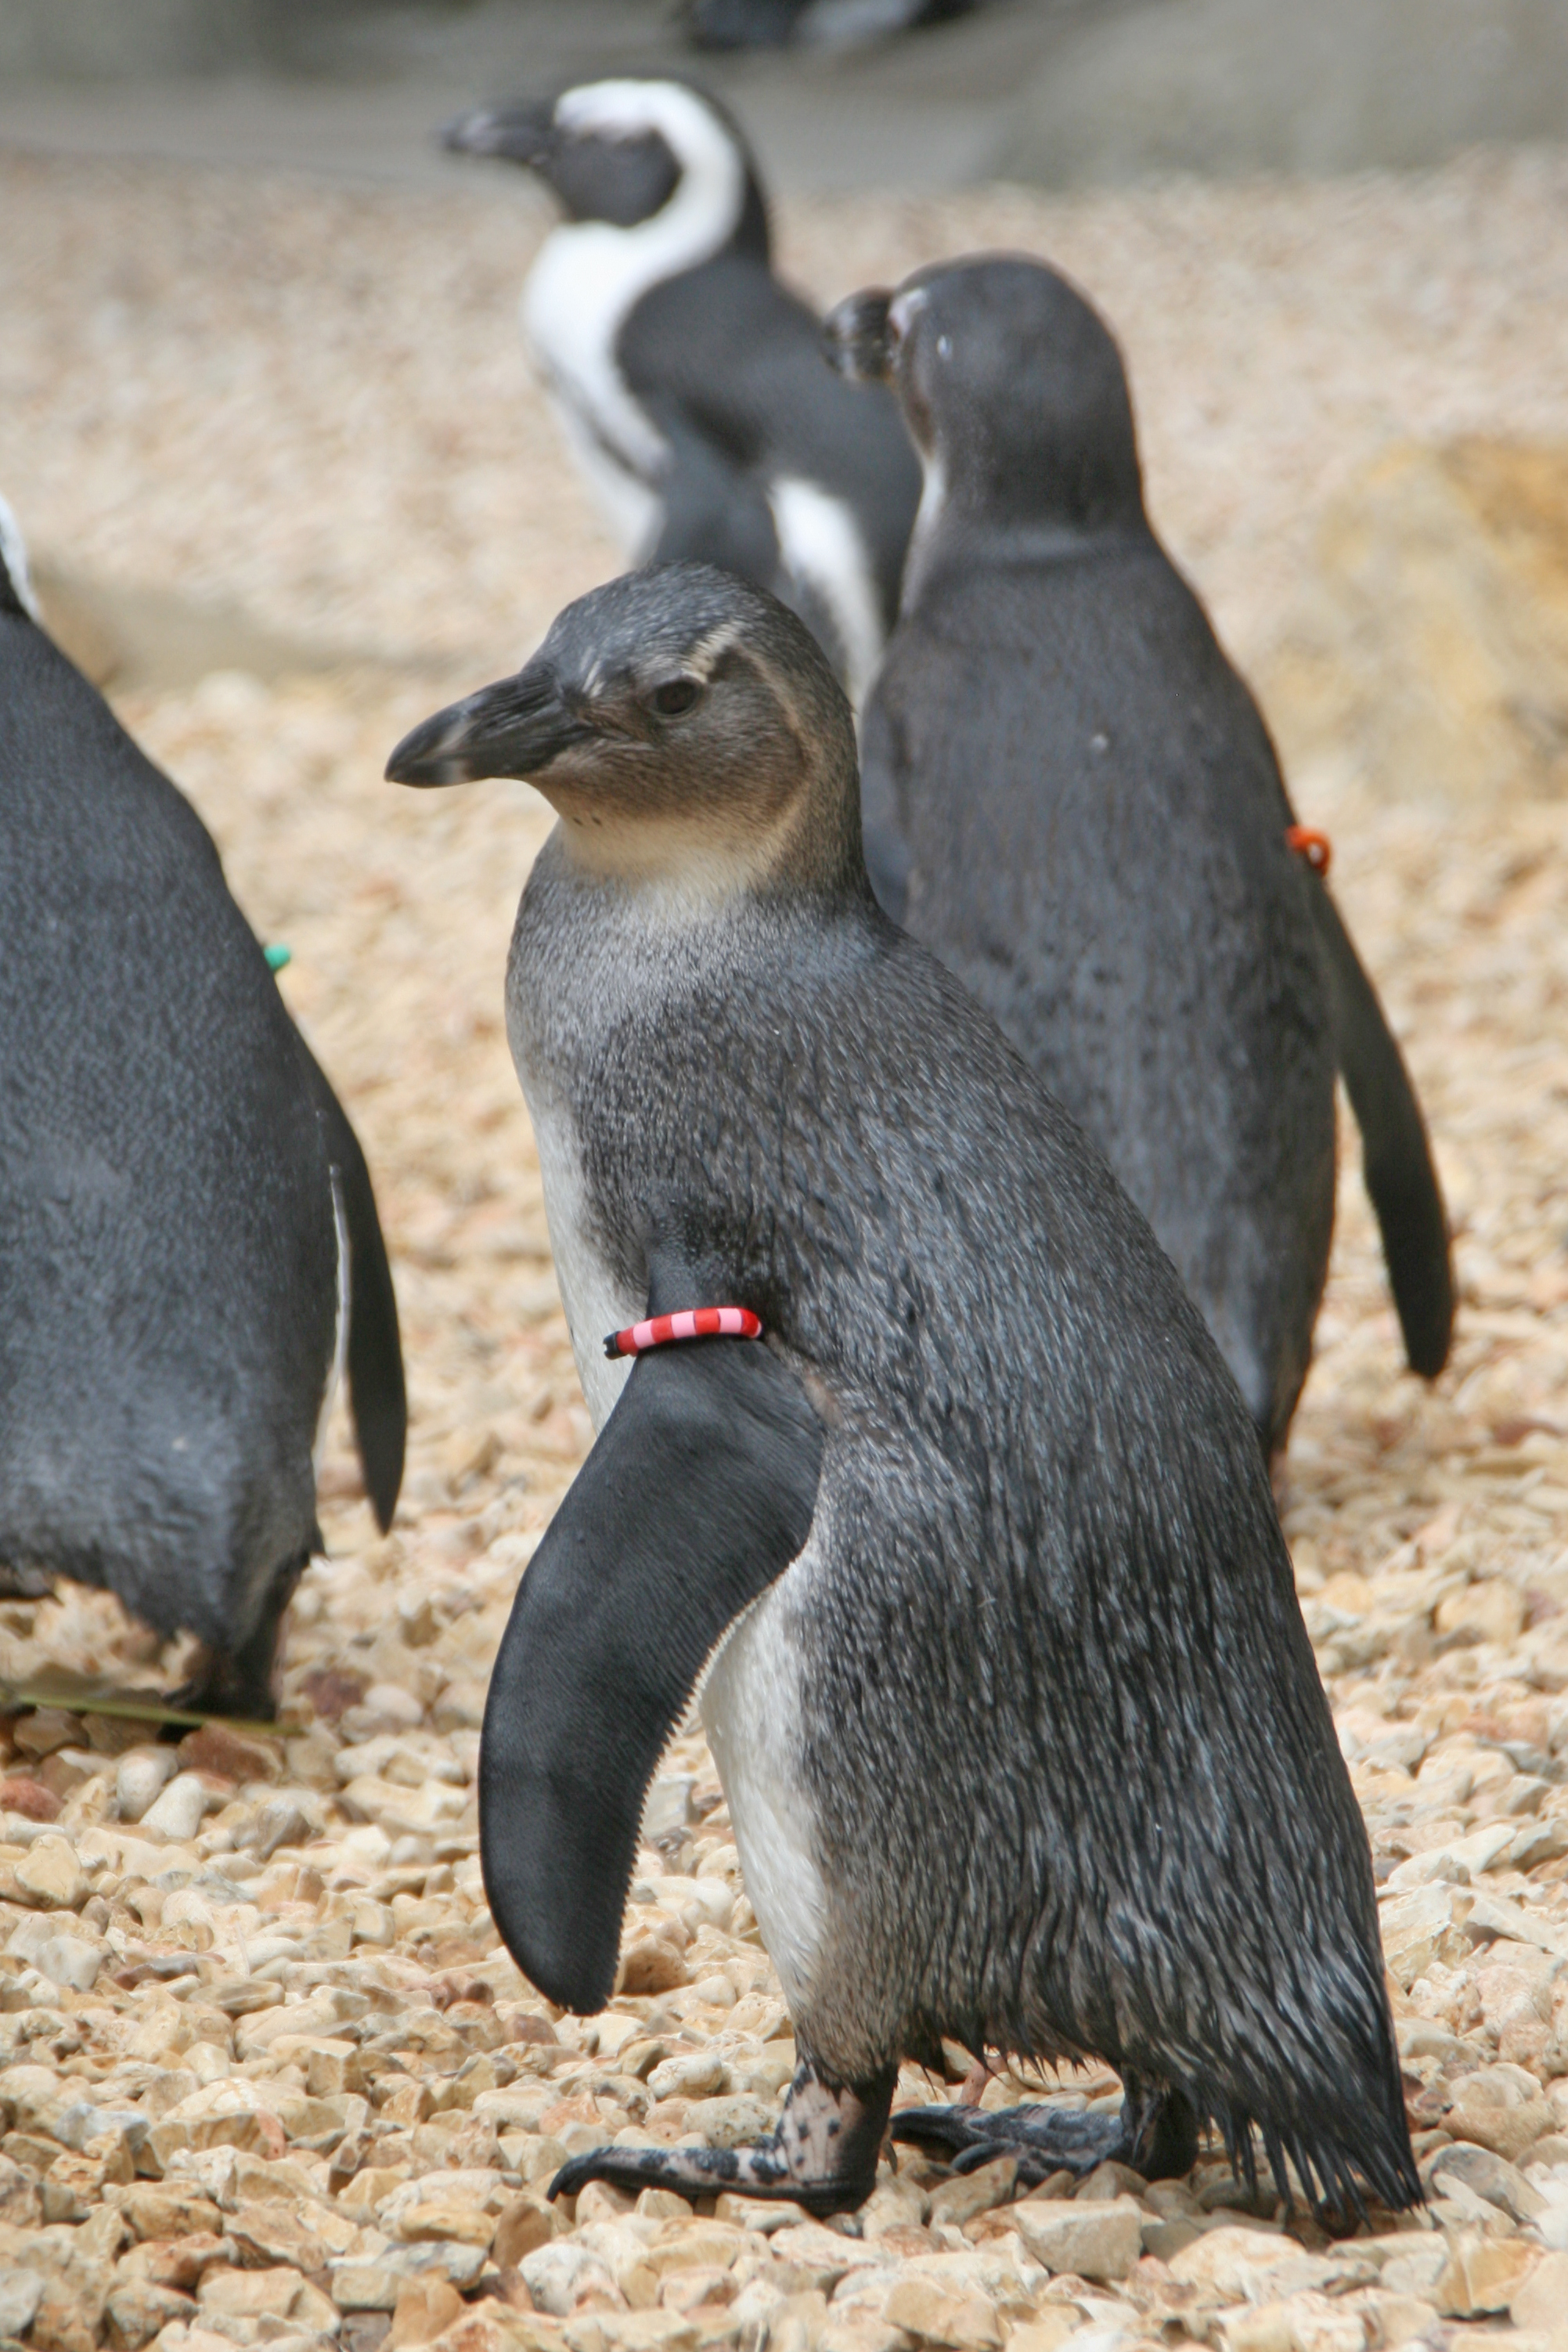penguin: (385, 556, 1419, 2231)
